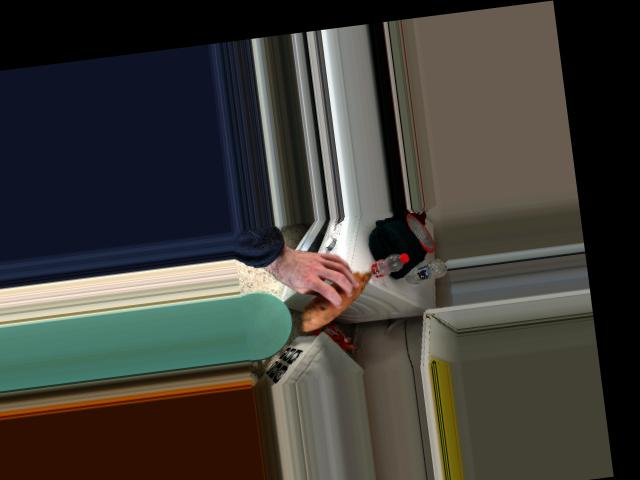sweet_potato: (305, 261, 375, 330)
